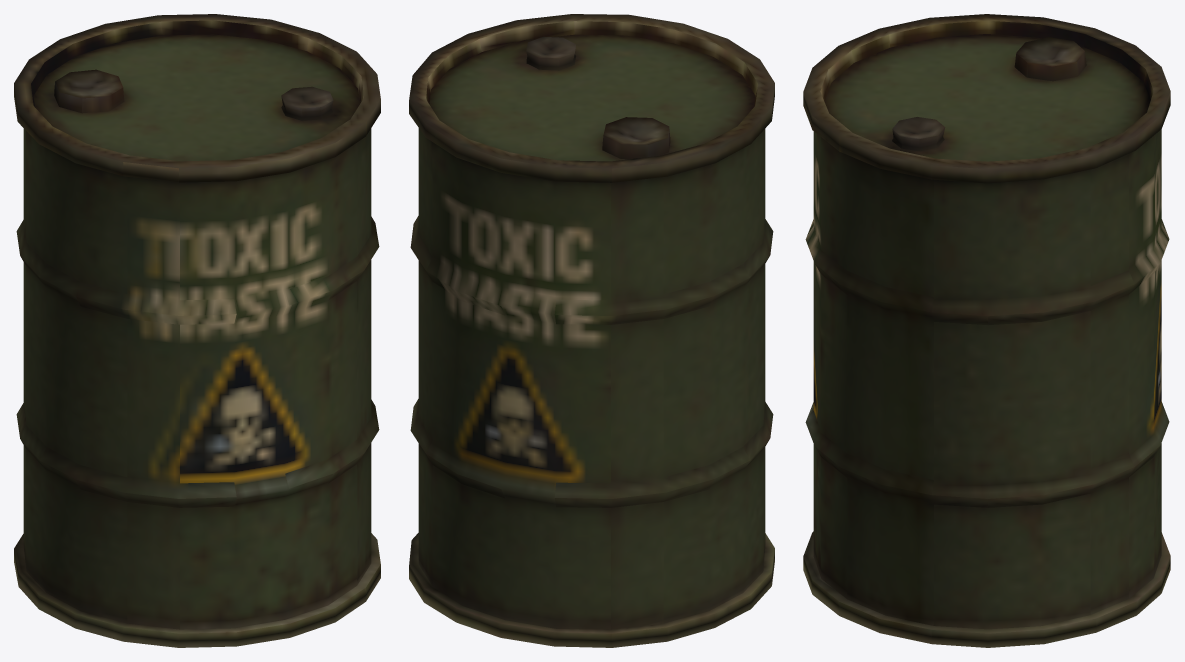
The model's file is safety_warning_sign_panel.fbx.
The picture shows the model from 3 angles, left to right: view 1: azimuth 30°, elevation 25°; view 2: azimuth 150°, elevation 25°; view 3: azimuth 270°, elevation 25°; orthographic projection.
Parts seen in each view (by area): view 1: safety_warning_sign_panel; view 2: safety_warning_sign_panel; view 3: safety_warning_sign_panel.
Part boxes in pixels (x1=…): safety_warning_sign_panel: x1=14, y1=14, x2=380, y2=647; safety_warning_sign_panel: x1=409, y1=14, x2=774, y2=647; safety_warning_sign_panel: x1=803, y1=14, x2=1170, y2=647.
Size of the model in its own units: 68.64 by 99.17 by 68.64.
